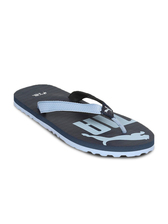shoes: (12, 76, 158, 162)
